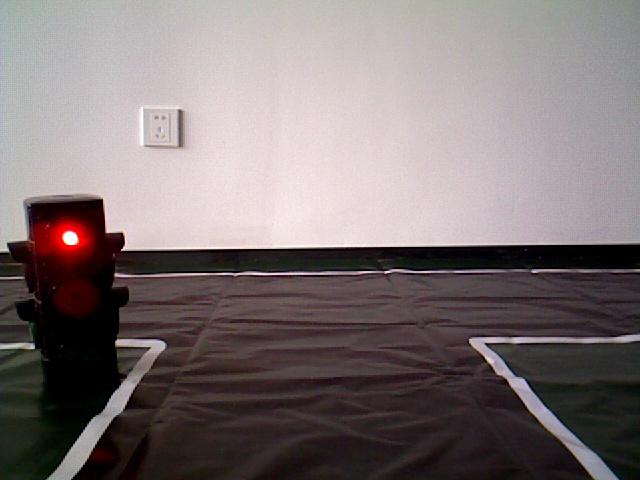red: (26, 201, 120, 380)
